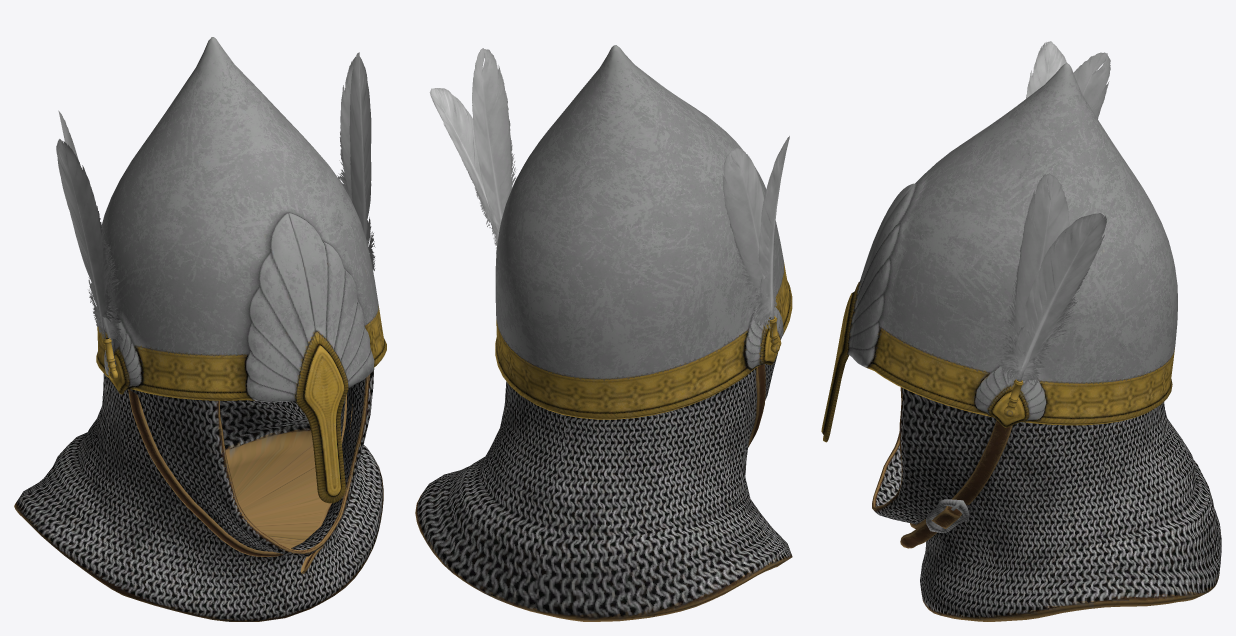
File: pelargirmarine_helmet_1_b_coif_plume.fbx
The picture shows the model from 3 angles, left to right: view 1: azimuth 30°, elevation 25°; view 2: azimuth 150°, elevation 25°; view 3: azimuth 270°, elevation 25°; orthographic projection. The views are drawn at different scales.
Visible parts, largest first — view 1: pelargirmarine_helmet_1_b_coif_plume.0, pelargirmarine_helmet_1_b_coif_plume.1; view 2: pelargirmarine_helmet_1_b_coif_plume.0, pelargirmarine_helmet_1_b_coif_plume.1; view 3: pelargirmarine_helmet_1_b_coif_plume.0, pelargirmarine_helmet_1_b_coif_plume.1.
Boxes of the visible parts, bbox=[...] form: pelargirmarine_helmet_1_b_coif_plume.0: bbox=[14, 37, 386, 621]; pelargirmarine_helmet_1_b_coif_plume.1: bbox=[56, 52, 375, 380]; pelargirmarine_helmet_1_b_coif_plume.0: bbox=[415, 45, 792, 621]; pelargirmarine_helmet_1_b_coif_plume.1: bbox=[429, 48, 789, 353]; pelargirmarine_helmet_1_b_coif_plume.0: bbox=[821, 63, 1221, 621]; pelargirmarine_helmet_1_b_coif_plume.1: bbox=[995, 41, 1110, 417].
Bounding box in the file's own units: 0.2971 × 0.3079 × 0.4516.
Materials: 2 (2 with a texture image).
